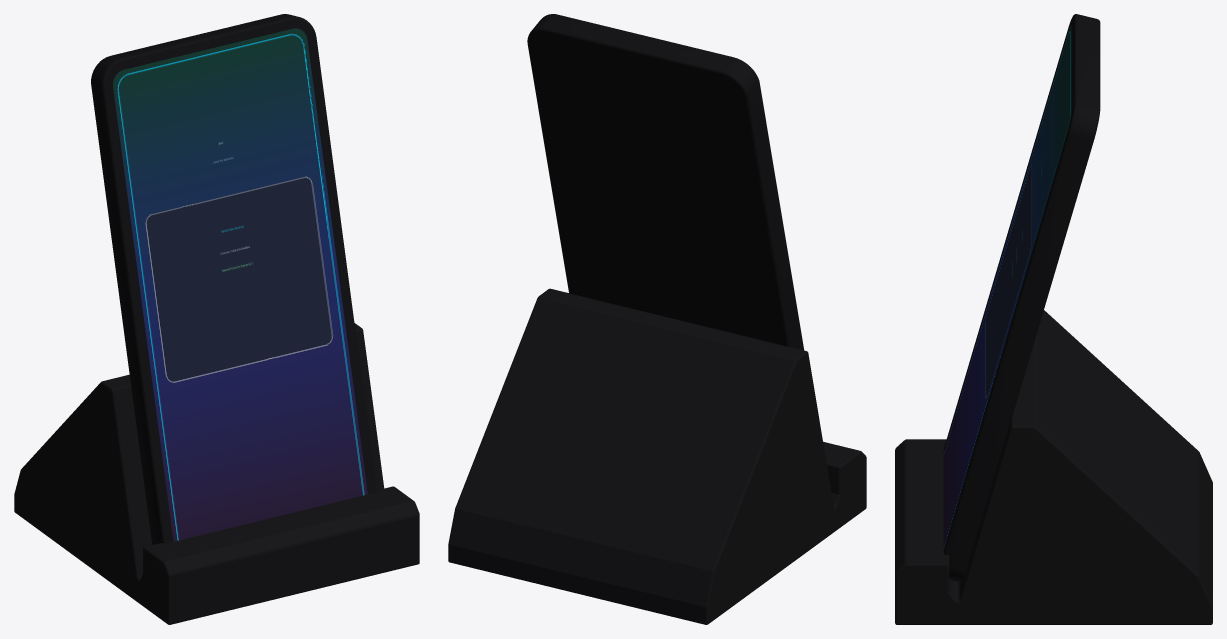
Rendered from phone_desk_stand.obj.
3 views of the same model, side by side, from view 1: azimuth 30°, elevation 25°; view 2: azimuth 150°, elevation 25°; view 3: azimuth 270°, elevation 25° (orthographic). The views are drawn at different scales.
Visible parts, largest first — view 1: Smartphone, DeskStand; view 2: DeskStand, Smartphone; view 3: DeskStand, Smartphone.
Part boxes in pixels (x1=…): Smartphone: x1=91, y1=14, x2=376, y2=544; DeskStand: x1=14, y1=323, x2=419, y2=624; DeskStand: x1=448, y1=288, x2=866, y2=624; Smartphone: x1=527, y1=14, x2=804, y2=350; DeskStand: x1=895, y1=310, x2=1212, y2=624; Smartphone: x1=943, y1=14, x2=1100, y2=581.
Size of the model in its own units: 0.088 by 0.1645 by 0.094.
3 materials, 1 textured.
